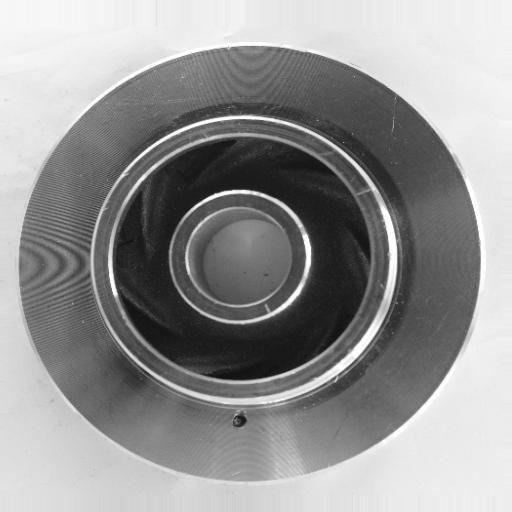pit: (224, 401, 257, 435)
unpolished_casting: (17, 42, 484, 487)
